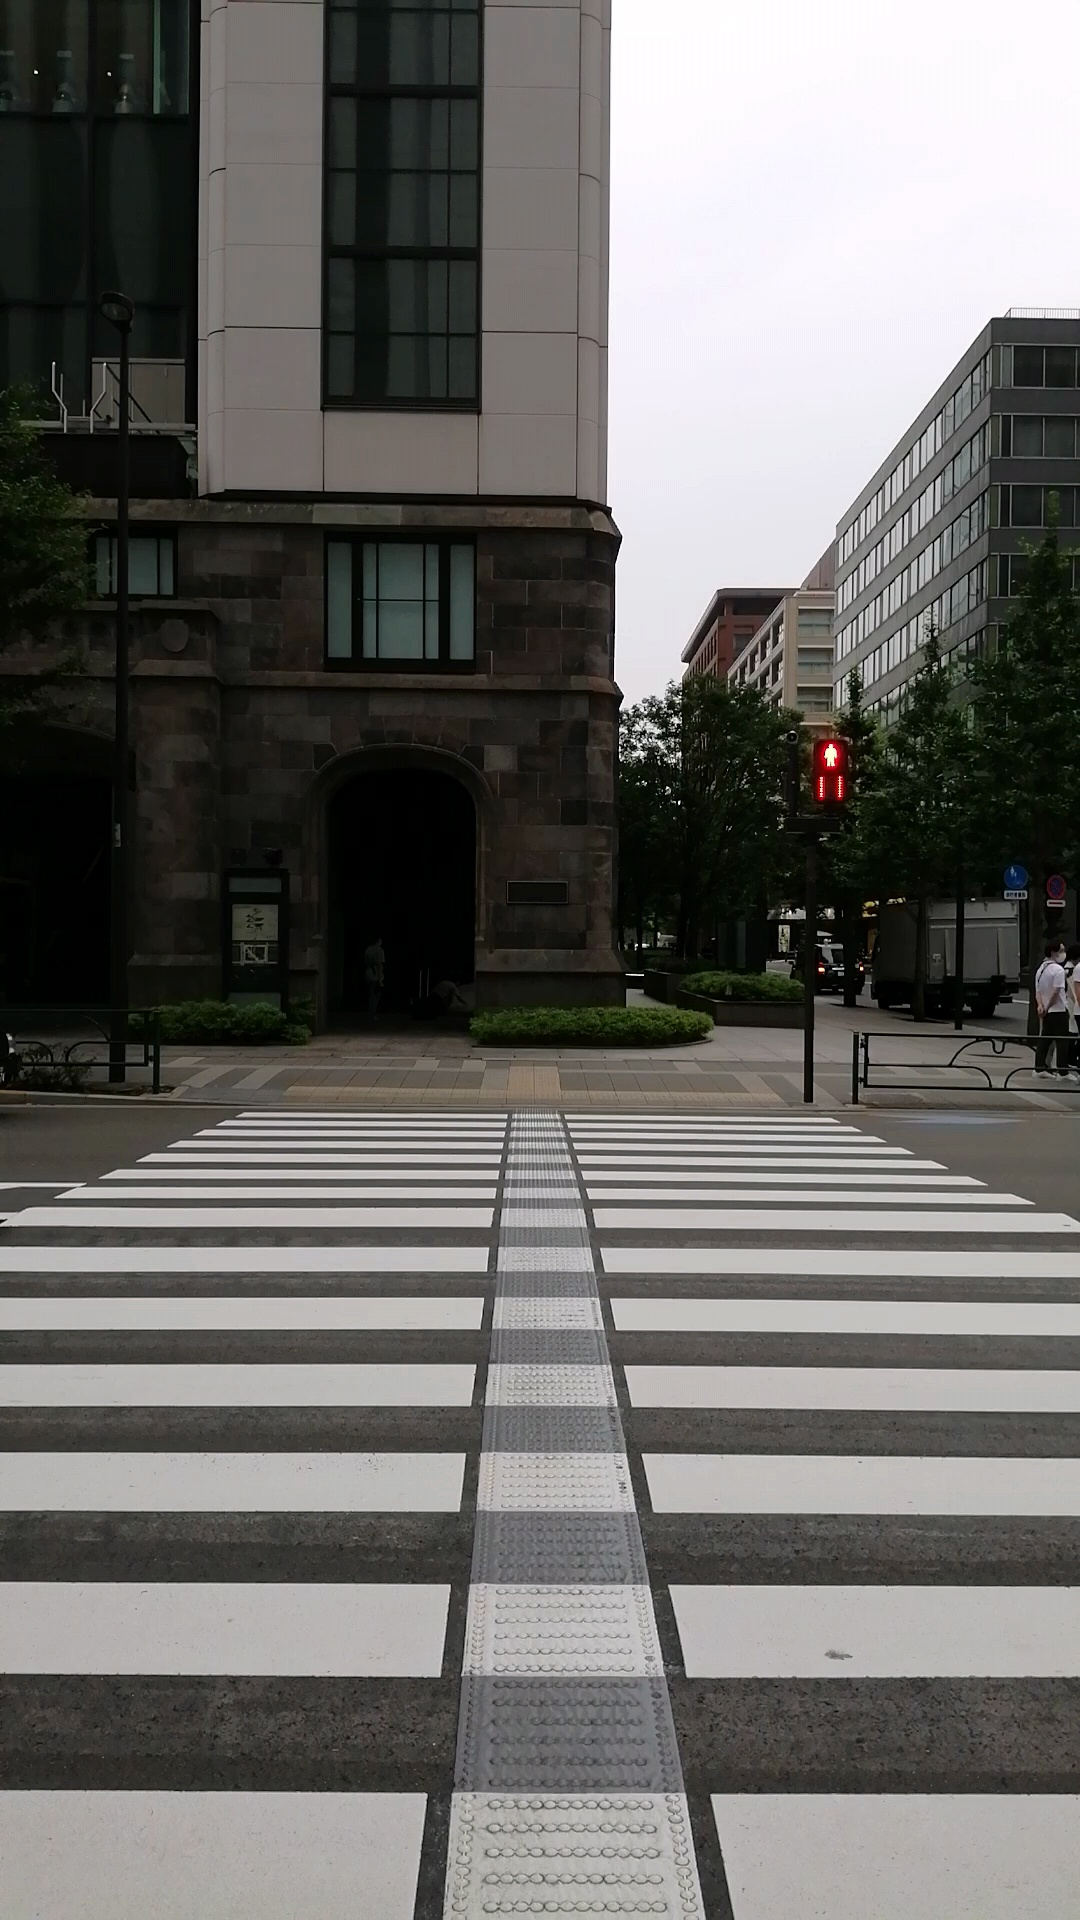red: (808, 735, 851, 808)
